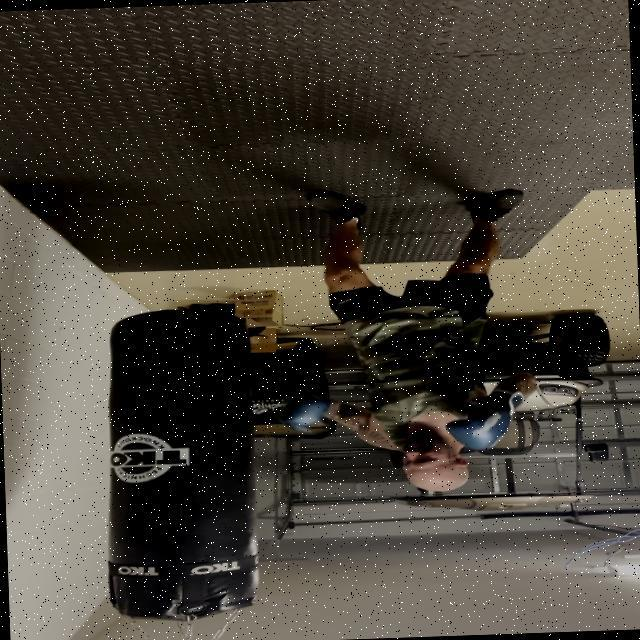bag: (98, 299, 266, 622)
hook: (230, 351, 530, 516)
